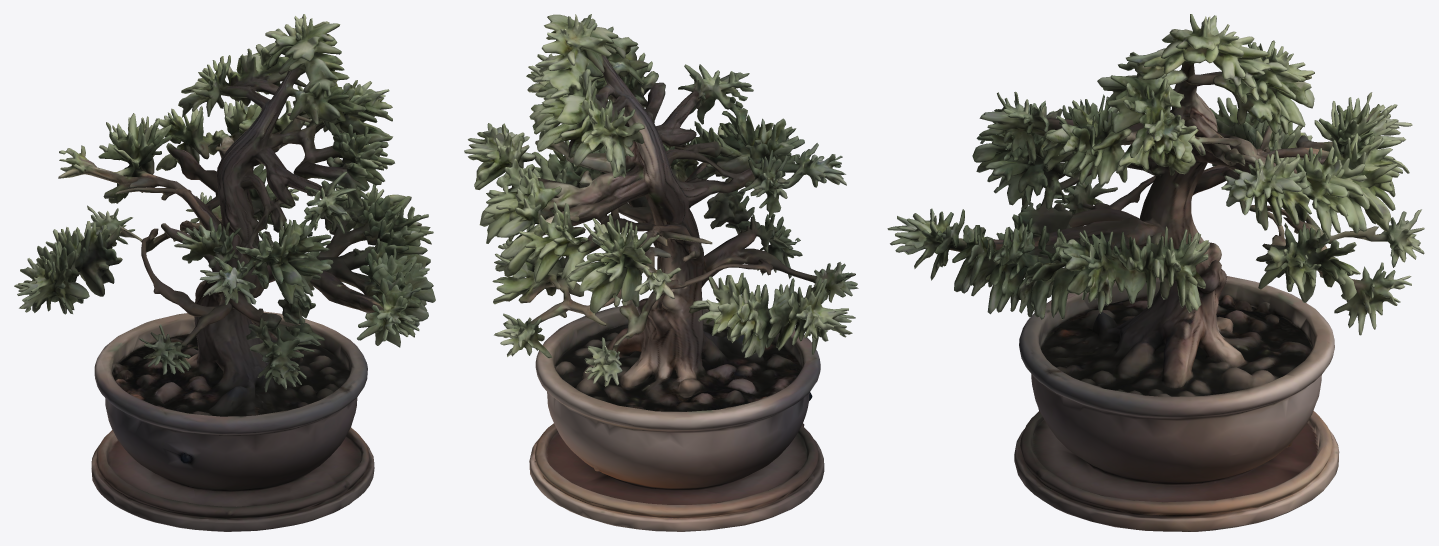
File: nature-tree-bonsai-large.glb
3 renders of one model, left to right at view 1: azimuth 30°, elevation 25°; view 2: azimuth 150°, elevation 25°; view 3: azimuth 270°, elevation 25°, orthographic. The views are drawn at different scales.
Visible parts, largest first — view 1: tripo_node_3e3c1ef1-8a3f-4b42-bf1a-1913b7a89a45; view 2: tripo_node_3e3c1ef1-8a3f-4b42-bf1a-1913b7a89a45; view 3: tripo_node_3e3c1ef1-8a3f-4b42-bf1a-1913b7a89a45.
Part boxes in pixels (x1,y1,x2,y2): tripo_node_3e3c1ef1-8a3f-4b42-bf1a-1913b7a89a45: (14,14,435,531); tripo_node_3e3c1ef1-8a3f-4b42-bf1a-1913b7a89a45: (464,14,858,531); tripo_node_3e3c1ef1-8a3f-4b42-bf1a-1913b7a89a45: (887,14,1424,531).
Bounding box in the file's own units: 2.65 × 3 × 2.92.
Materials: 1 (1 with a texture image).
